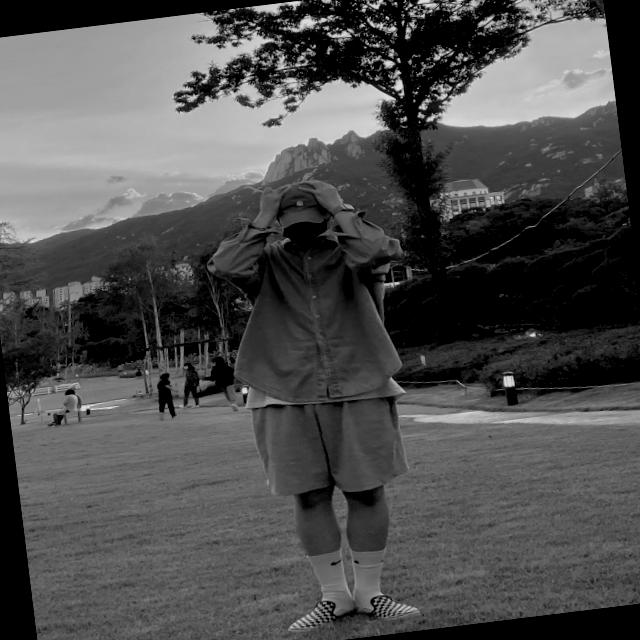shirt: (212, 200, 418, 412)
shortpants: (245, 376, 409, 502)
